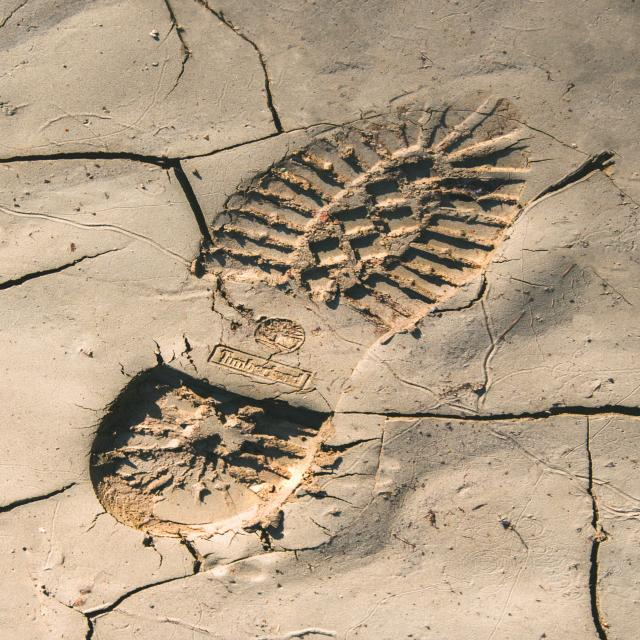human_footprint: (67, 35, 583, 597)
